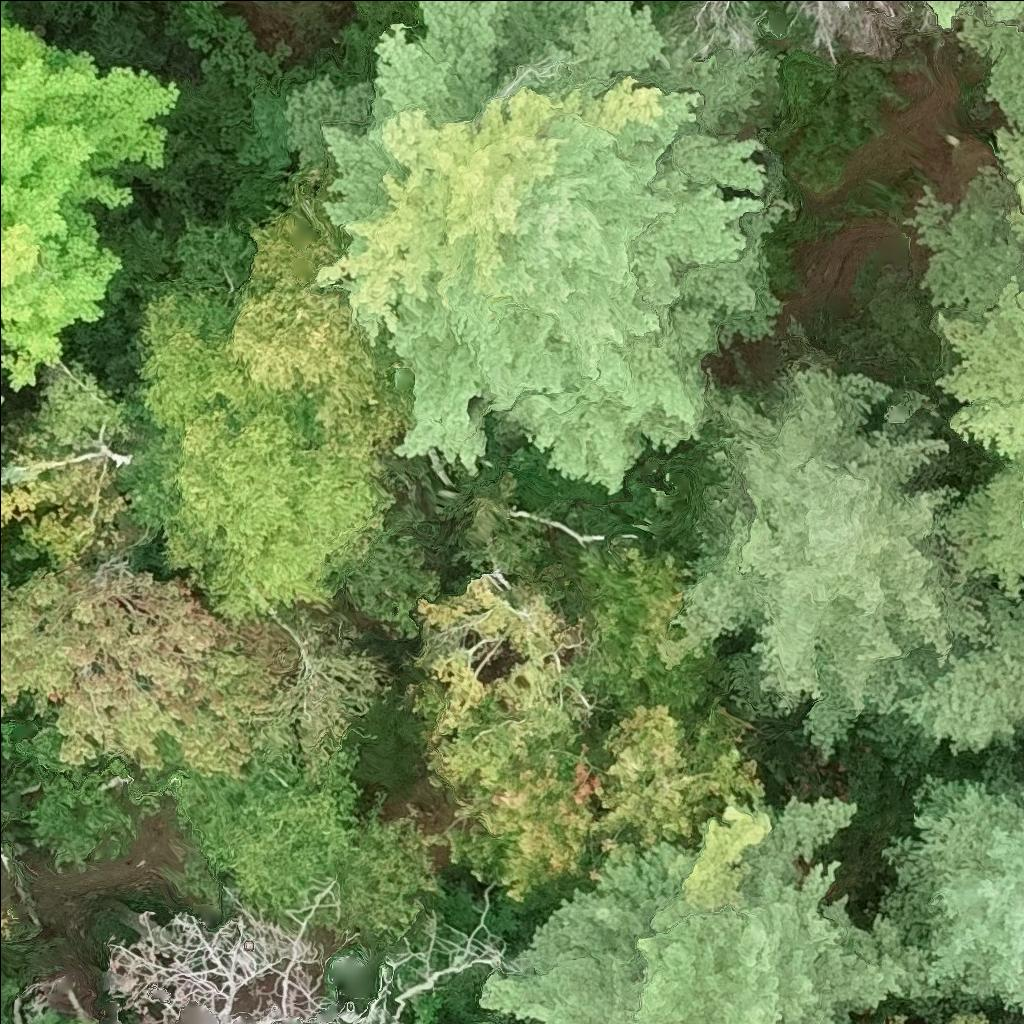crown: (278, 0, 795, 494), (658, 342, 988, 784), (479, 794, 953, 1023), (0, 18, 182, 392), (0, 565, 302, 785), (100, 871, 513, 1023), (899, 118, 1023, 604), (122, 401, 393, 623), (227, 162, 401, 473), (868, 745, 1023, 1023), (131, 209, 307, 435), (204, 780, 432, 943), (590, 700, 764, 871), (448, 743, 605, 914), (891, 590, 1023, 757), (953, 0, 1023, 121), (785, 0, 898, 64), (667, 0, 765, 60), (895, 0, 976, 38), (349, 0, 417, 38), (934, 1009, 990, 1023), (0, 0, 23, 25), (0, 396, 13, 425), (882, 1011, 909, 1023), (467, 1013, 496, 1023), (423, 1019, 436, 1023)
